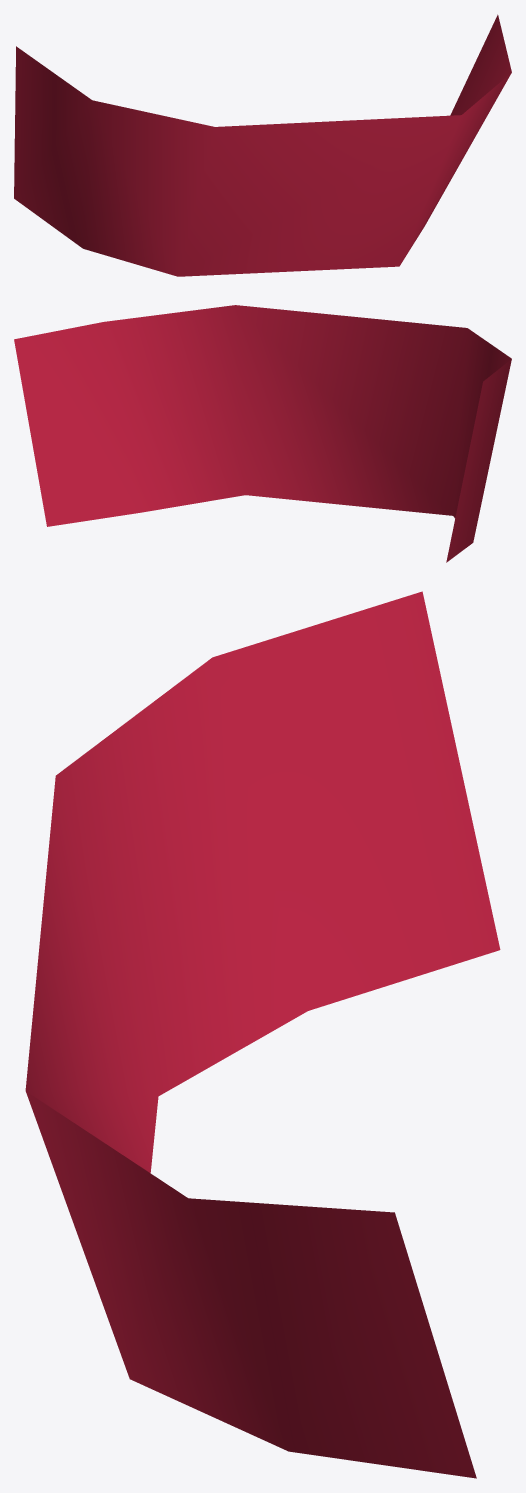
3 views of the same model, one above another, from view 1: azimuth 30°, elevation 25°; view 2: azimuth 150°, elevation 25°; view 3: azimuth 270°, elevation 25° (orthographic). The views are drawn at different scales.
Parts seen in each view (by area): view 1: ef_453; view 2: ef_453; view 3: ef_453.
Part boxes in pixels (x1=…): ef_453: x1=14, y1=14, x2=511, y2=276; ef_453: x1=14, y1=305, x2=511, y2=562; ef_453: x1=25, y1=591, x2=500, y2=1478.
Size of the model in its own units: 0.6178 by 0.3069 by 0.2675.
Materials: 1 (1 with a texture image).
